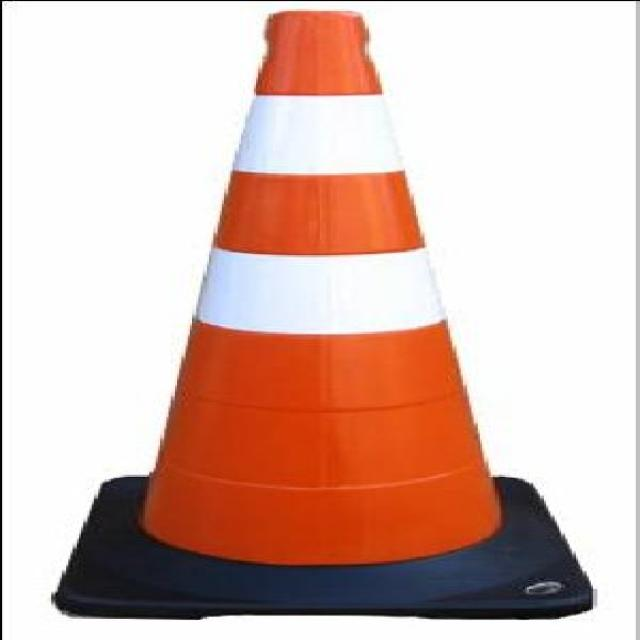cone: (53, 9, 602, 618)
